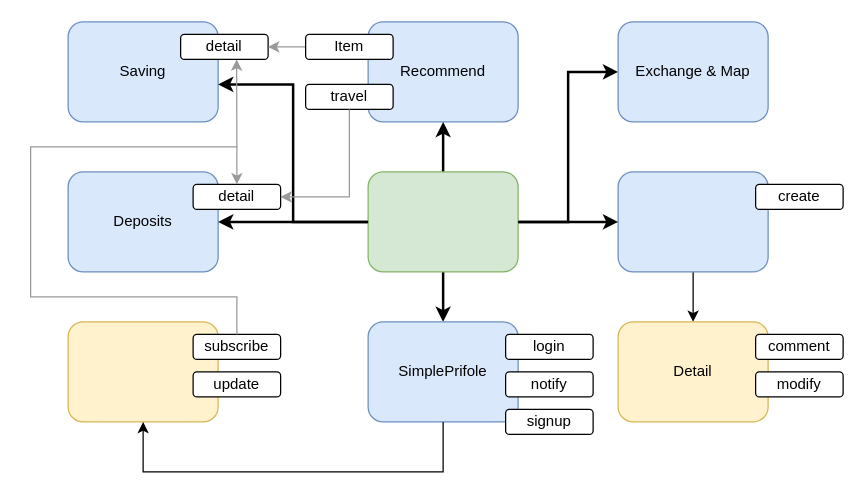
The diagram is 865 pixels wide and 504 high, and some of its shapes have lost their labels. Here are the shapes that lost their labels. From the top down, the box of each, then its label:
(367, 171, 518, 272): App
(617, 171, 768, 272): Articles
(67, 321, 218, 422): Profile
